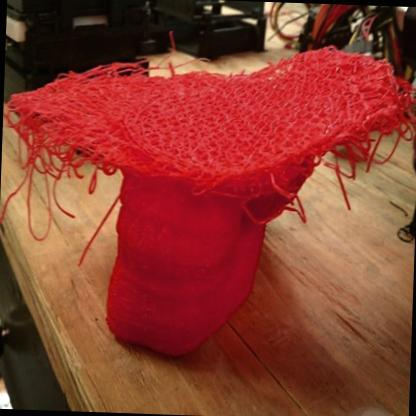fail: (1, 61, 124, 239), (305, 44, 416, 214)
